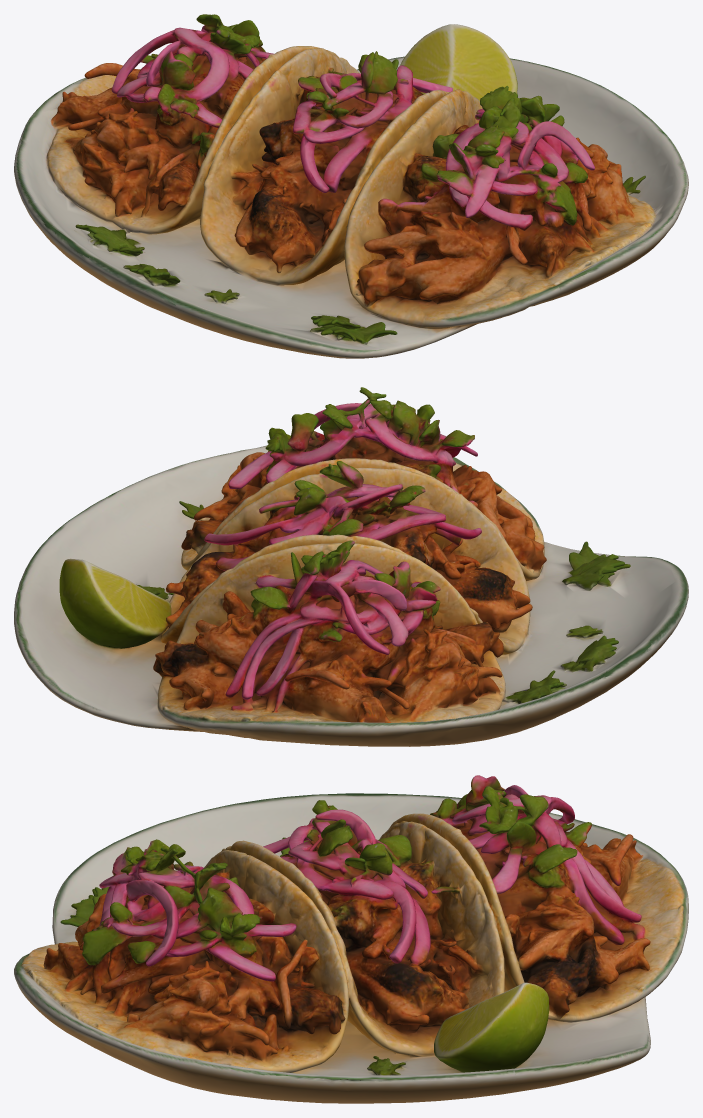
File: tacos-cochinita.glb
3 renders of one model, top to bottom at view 1: azimuth 30°, elevation 25°; view 2: azimuth 150°, elevation 25°; view 3: azimuth 270°, elevation 25°, orthographic. The views are drawn at different scales.
Parts seen in each view (by area): view 1: tripo_node_ee6a3d19-29e0-4d74-88f0-0c393dff03b7; view 2: tripo_node_ee6a3d19-29e0-4d74-88f0-0c393dff03b7; view 3: tripo_node_ee6a3d19-29e0-4d74-88f0-0c393dff03b7.
Boxes of the visible parts, box(x1,y1,x2,y2) form: tripo_node_ee6a3d19-29e0-4d74-88f0-0c393dff03b7: box(14, 14, 688, 358); tripo_node_ee6a3d19-29e0-4d74-88f0-0c393dff03b7: box(14, 387, 688, 746); tripo_node_ee6a3d19-29e0-4d74-88f0-0c393dff03b7: box(14, 775, 688, 1103).
Bounding box in the file's own units: 0.3 × 0.0888 × 0.2974.
1 material, 1 textured.
